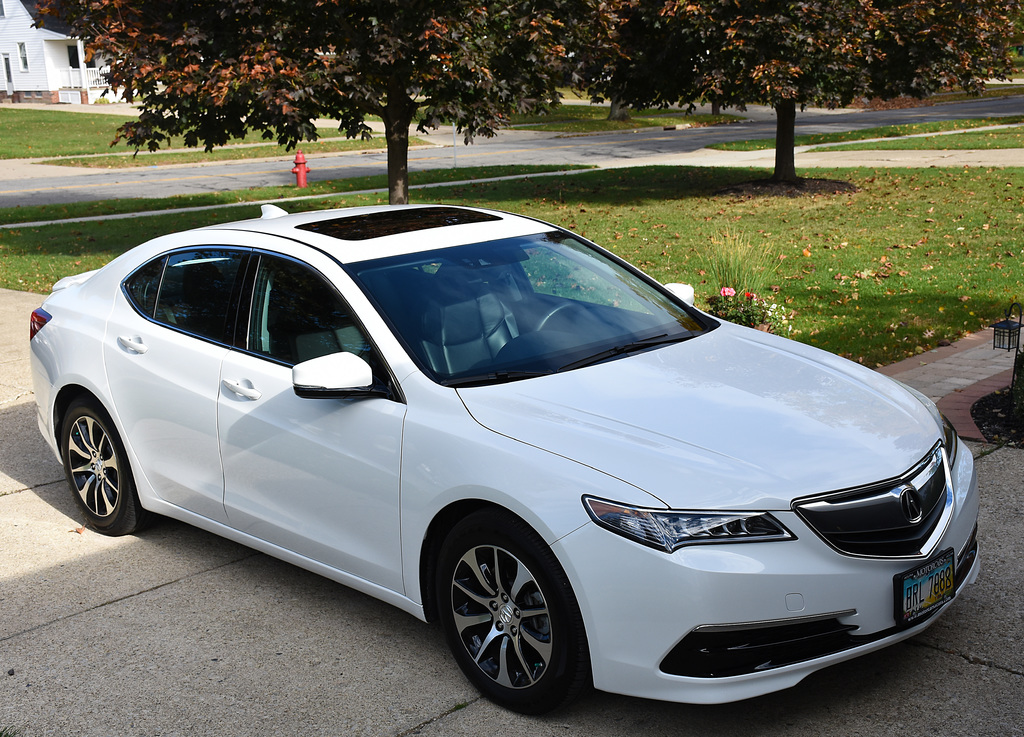Tree: (27, 0, 636, 205), (588, 0, 1024, 185)
